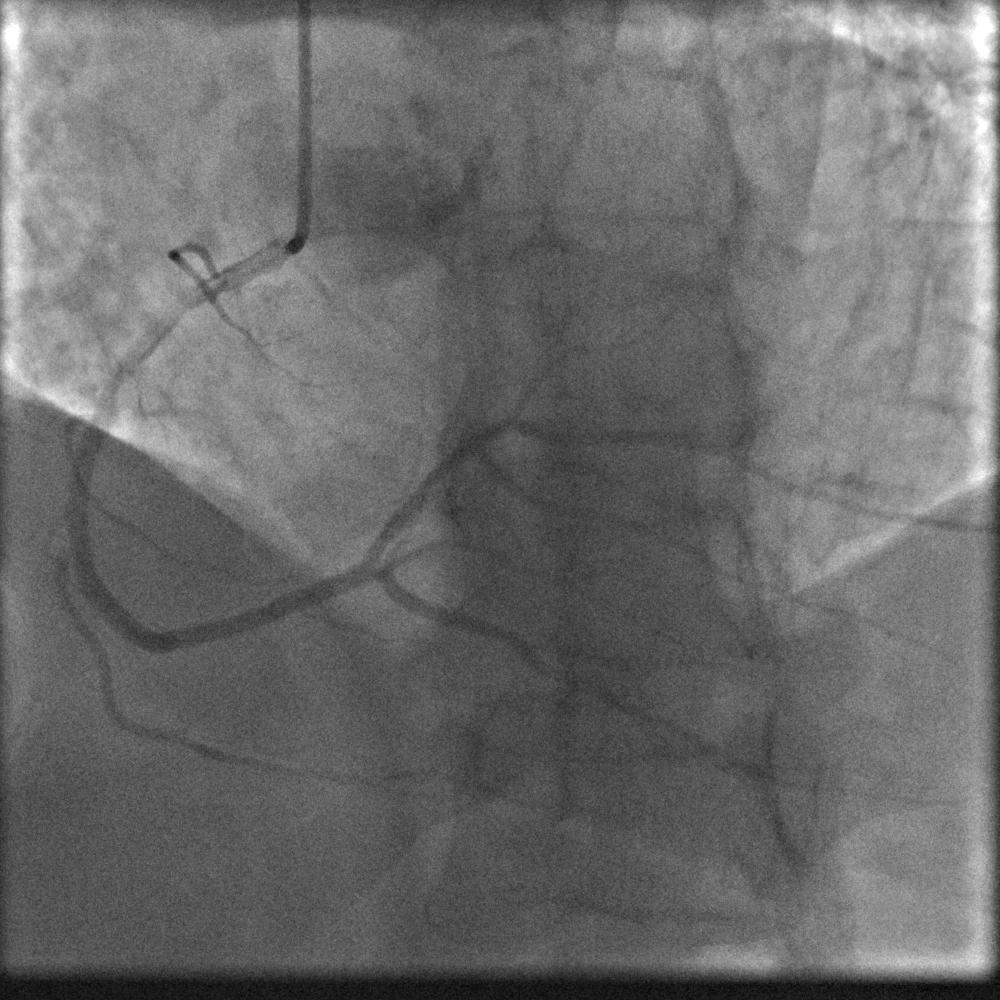Stenosis: (162, 273, 205, 341)
